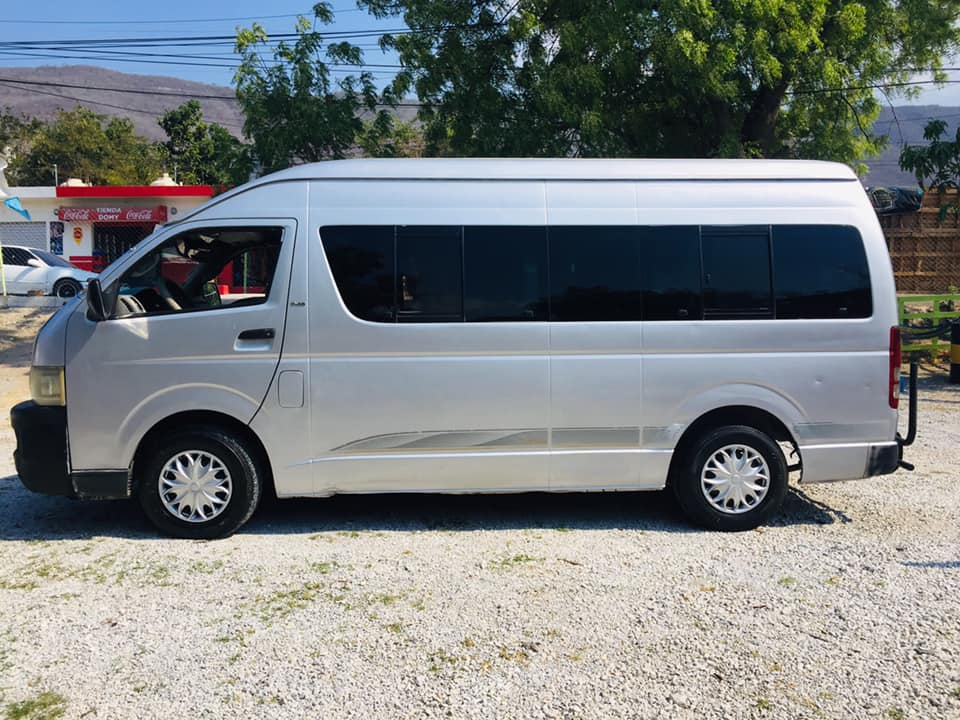bus: (11, 156, 927, 538)
